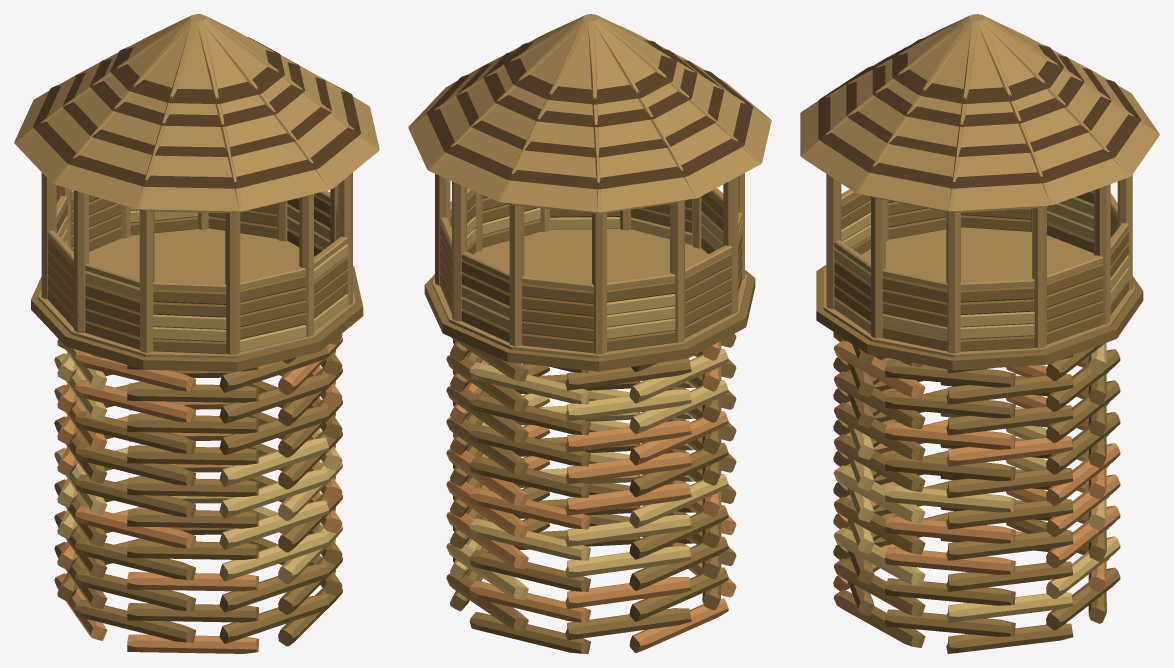
The model's file is Wood_Tower_2_White.fbx.
3 renders of one model, left to right at view 1: azimuth 30°, elevation 25°; view 2: azimuth 150°, elevation 25°; view 3: azimuth 270°, elevation 25°, orthographic.
Parts seen in each view (by area): view 1: Cylinder.343, Cylinder.222, Cylinder.344, Cylinder.221, Cylinder.345, Cylinder.346, Cylinder.347, Cylinder.230, Cylinder.231, Cylinder.128, Cylinder.198, Cylinder.208 (+66 smaller); view 2: Cylinder.343, Cylinder.222, Cylinder.344, Cylinder.221, Cylinder.345, Cylinder.346, Cylinder.347, Cylinder.182, Cylinder.192, Cylinder.172, Cylinder.132, Cylinder.162 (+64 smaller); view 3: Cylinder.343, Cylinder.222, Cylinder.344, Cylinder.221, Cylinder.345, Cylinder.346, Cylinder.347, Cylinder.185, Cylinder.155, Cylinder.165, Cylinder.135, Cylinder.195 (+67 smaller).
Part boxes in pixels (x1,y1,x2,y2): Cylinder.343: [14, 14, 379, 211]; Cylinder.222: [38, 228, 355, 358]; Cylinder.344: [33, 82, 360, 188]; Cylinder.221: [31, 266, 363, 371]; Cylinder.345: [63, 72, 331, 156]; Cylinder.346: [90, 56, 304, 126]; Cylinder.347: [110, 37, 284, 103]; Cylinder.230: [225, 212, 240, 354]; Cylinder.231: [139, 210, 154, 352]; Cylinder.128: [127, 634, 258, 653]; Cylinder.198: [127, 414, 258, 433]; Cylinder.208: [127, 383, 258, 402]; Cylinder.343: [408, 14, 771, 212]; Cylinder.222: [432, 229, 747, 358]; Cylinder.344: [427, 70, 752, 189]; Cylinder.221: [424, 270, 755, 371]; Cylinder.345: [456, 60, 724, 157]; Cylinder.346: [483, 49, 697, 127]; Cylinder.347: [504, 40, 677, 104]; Cylinder.182: [565, 452, 691, 484]; Cylinder.192: [565, 420, 691, 452]; Cylinder.172: [565, 483, 691, 515]; Cylinder.132: [565, 608, 691, 640]; Cylinder.162: [565, 514, 691, 546]; Cylinder.343: [800, 14, 1159, 211]; Cylinder.222: [823, 227, 1135, 357]; Cylinder.344: [818, 66, 1140, 188]; Cylinder.221: [816, 265, 1143, 370]; Cylinder.345: [846, 57, 1111, 156]; Cylinder.346: [872, 47, 1084, 126]; Cylinder.347: [892, 38, 1063, 103]; Cylinder.185: [885, 453, 1015, 481]; Cylinder.155: [885, 547, 1015, 574]; Cylinder.165: [885, 516, 1015, 543]; Cylinder.135: [885, 609, 1015, 636]; Cylinder.195: [885, 422, 1015, 449].
Size of the model in its own units: 276 by 486 by 273.
